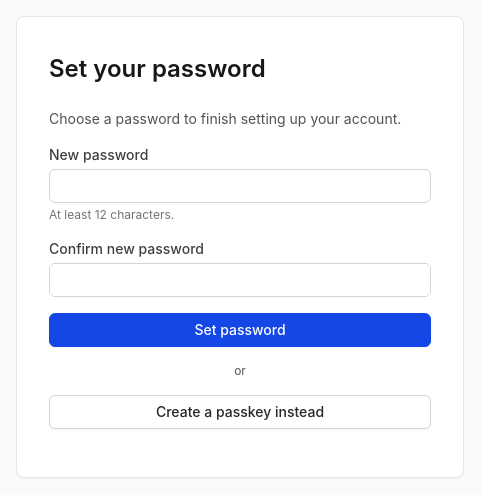
Test: PasswordLinkPage › accepts an invitation with a new passkey
The image size is (481, 495).
Click the button "Create a passkey instead": (240,412) [49,395,431,429]
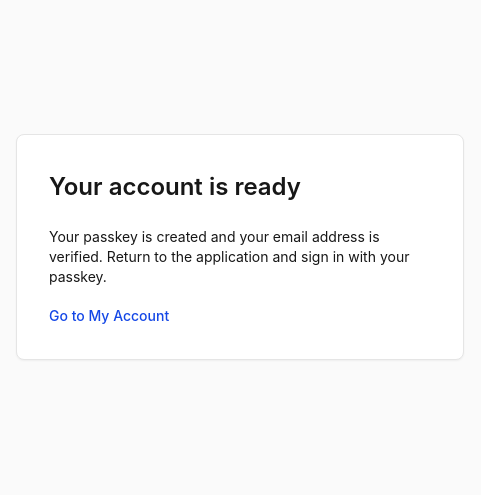
Expected: the heading "Your account is ready" is shown, [49,172,301,201]
Expected: the text "sign in with your passkey" is shown, [49,228,410,285]
